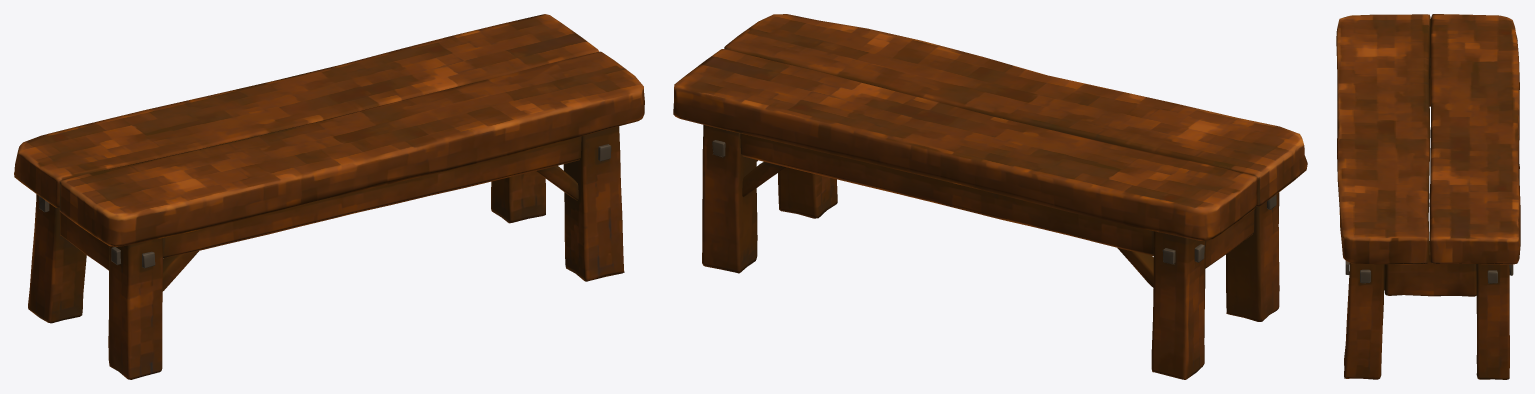
Rendered from bench.glb.
3 renders of one model, left to right at view 1: azimuth 30°, elevation 25°; view 2: azimuth 150°, elevation 25°; view 3: azimuth 270°, elevation 25°, orthographic. The views are drawn at different scales.
Visible parts, largest first — view 1: geometry_0; view 2: geometry_0; view 3: geometry_0.
Boxes of the visible parts, x1=… form: geometry_0: x1=14, y1=14, x2=644, y2=379; geometry_0: x1=673, y1=14, x2=1307, y2=379; geometry_0: x1=1336, y1=14, x2=1520, y2=379.
Bounding box in the file's own units: 1 × 0.3262 × 0.3499.
Materials: 1 (1 with a texture image).
